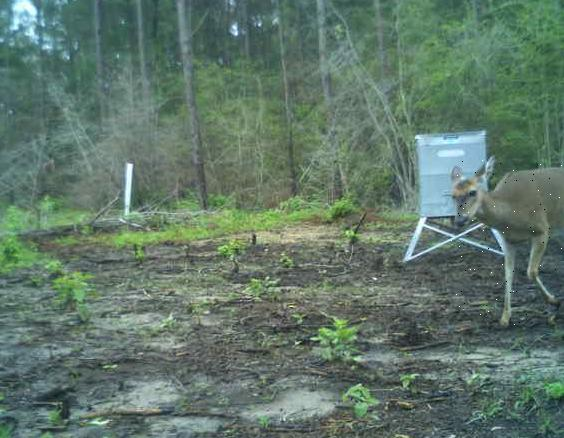Deer: (448, 157, 564, 327)
